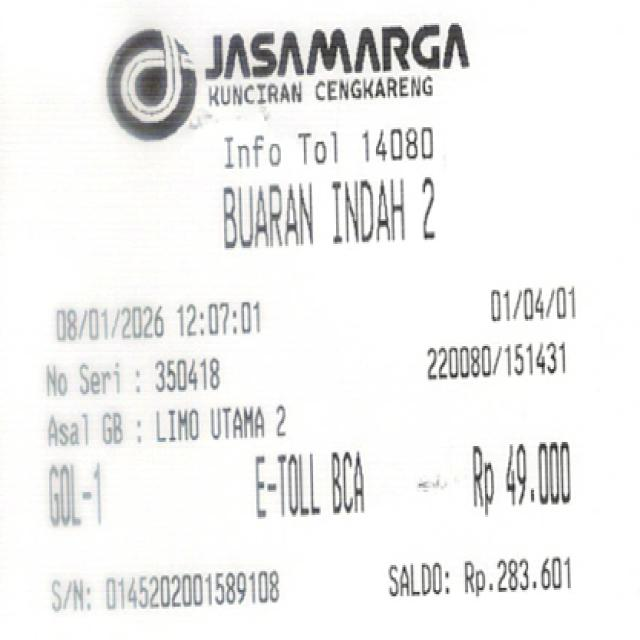date: (50, 300, 268, 340)
store: (197, 24, 478, 104)
total: (464, 439, 584, 516)
